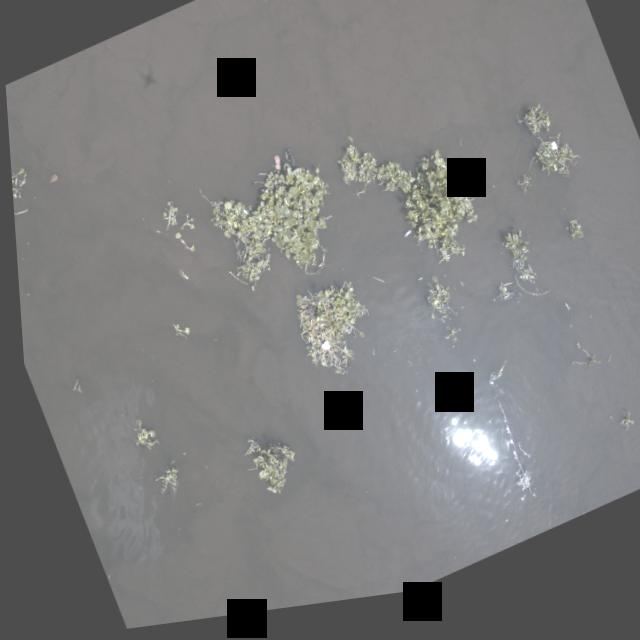plastic: (276, 148, 298, 177), (392, 231, 413, 255), (263, 157, 281, 177), (509, 483, 526, 504), (311, 344, 327, 362), (541, 151, 556, 168)
